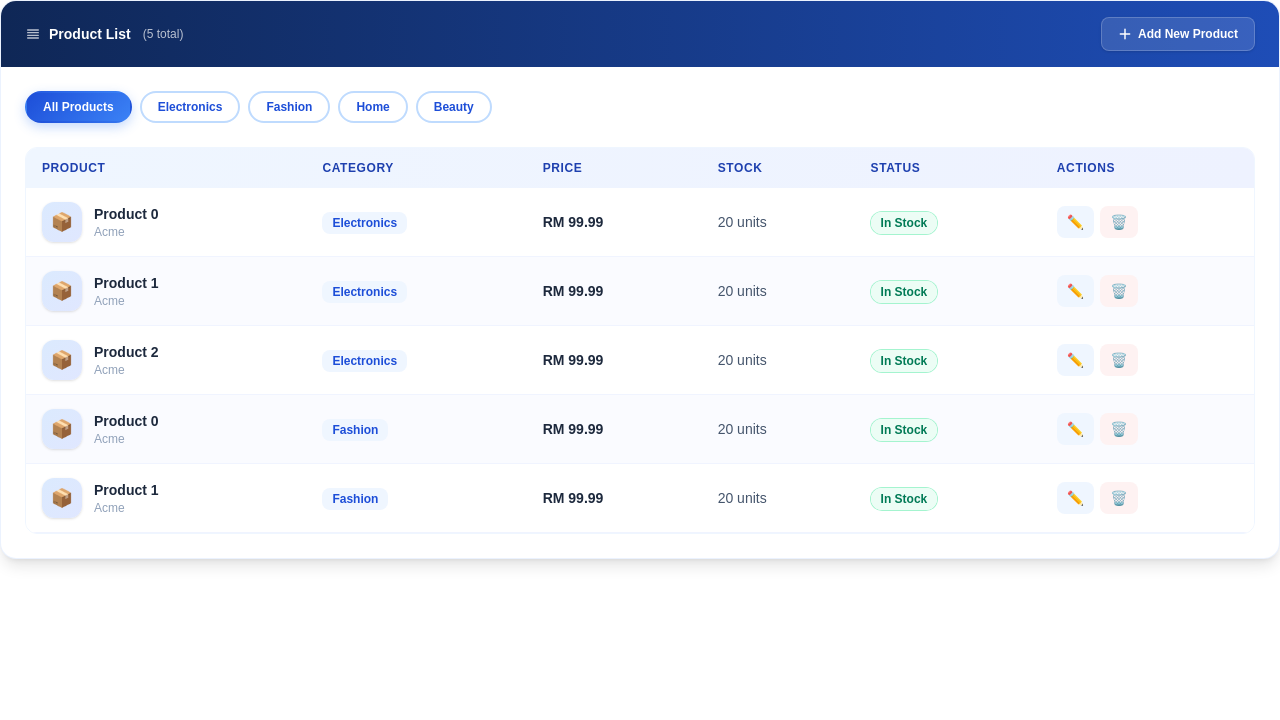
Test case: ProductsTable — category filter › shows correct total count after filtering
The width and height of the screenshot is (1280, 720).
What coordinates should you click on to do the following:
click the button "Electronics"
I would click on:
 (190, 107)
Its box is [140,91,240,123].
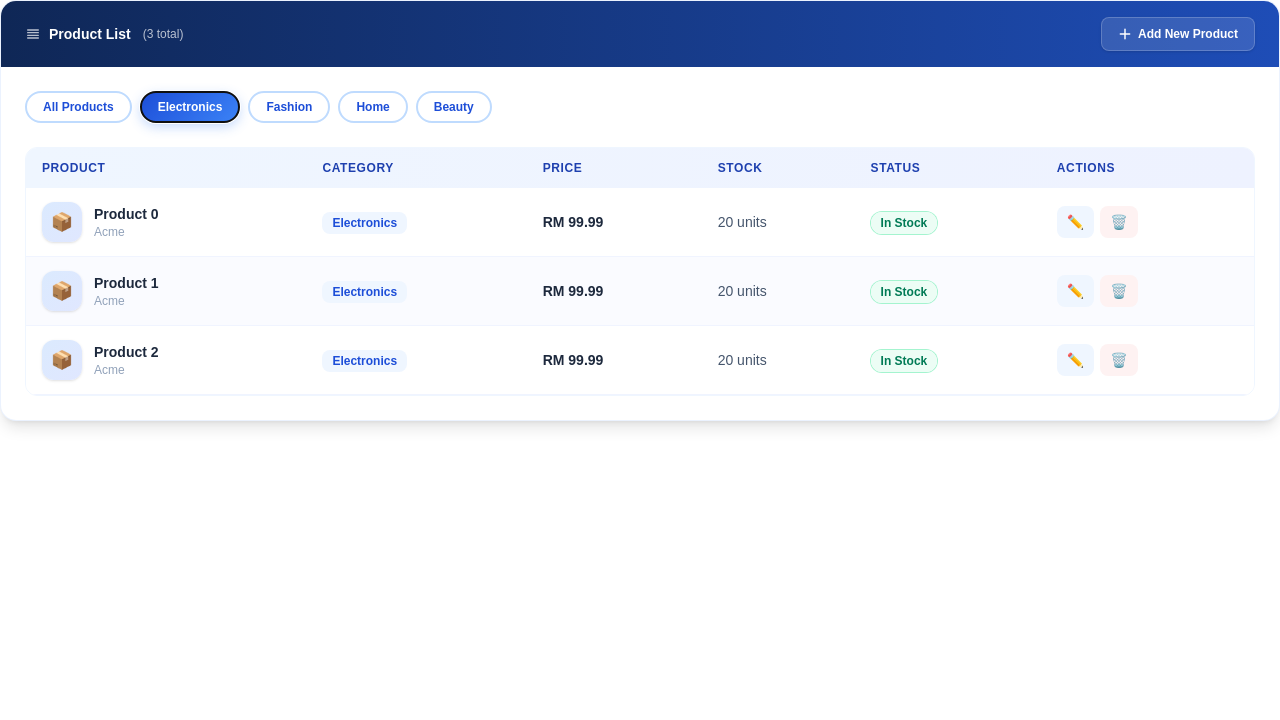
Result: the text "(3 total)" is shown at [143,26,183,42]
